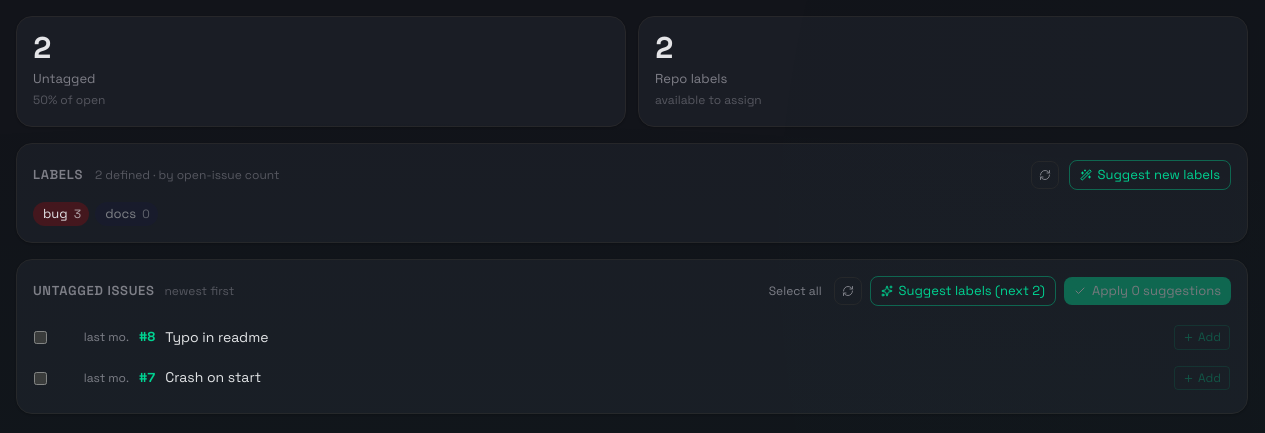
TaggingView › stages the suggestions a generate returns without writing them
Expected: the text "Crash on start" is shown, [165,368,261,386]
Click the button "Suggest labels (next 2)" at (963, 291), box [870,276,1056,306]
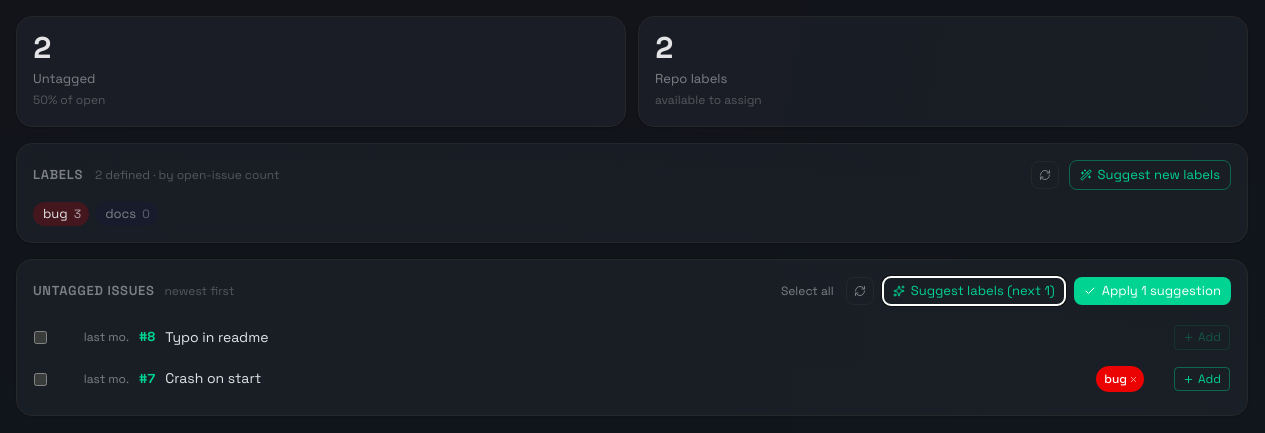
Expected: the button titled "reports a crash" is shown, [1096,366,1144,392]
Expected: the button "Apply 1 suggestion" is shown, [1074,277,1231,305]
